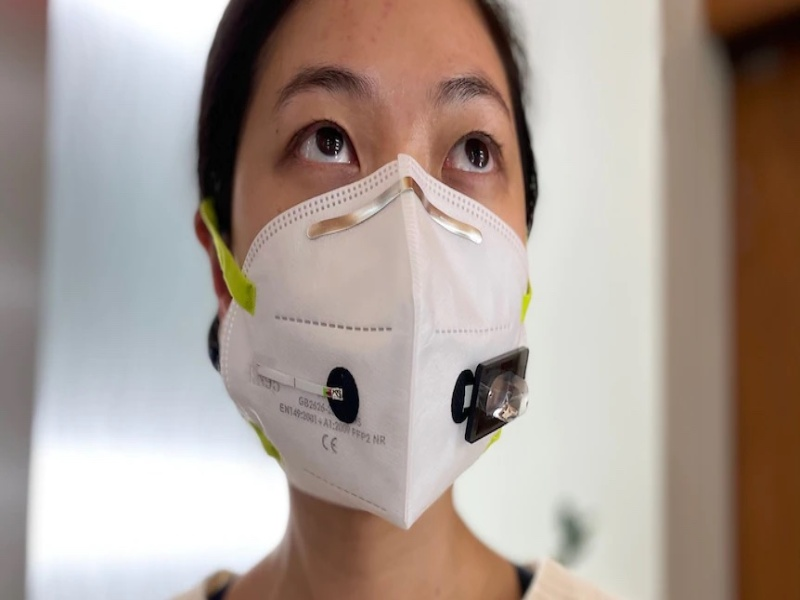mask: (215, 153, 533, 530)
